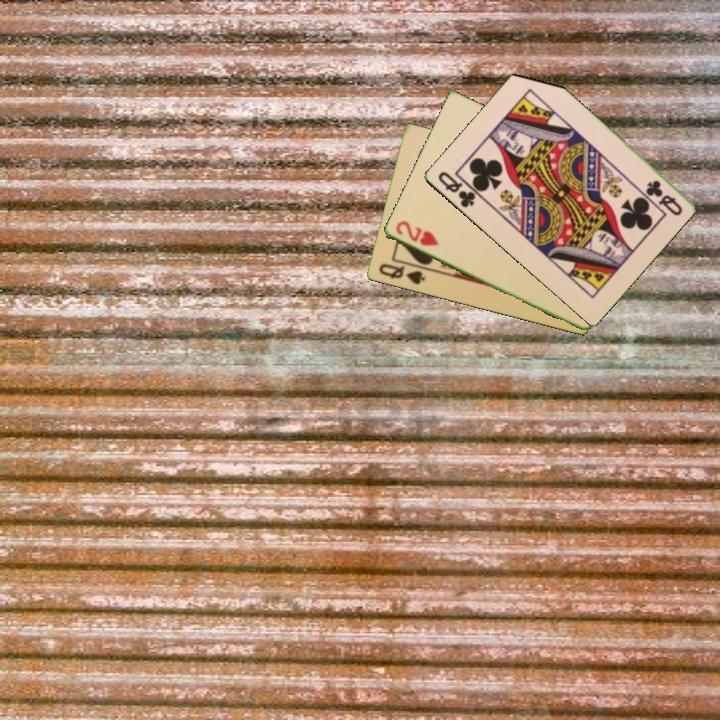2h: (392, 217, 442, 249)
Qc: (434, 168, 478, 211), (642, 176, 685, 219)
Qs: (375, 260, 428, 288)
